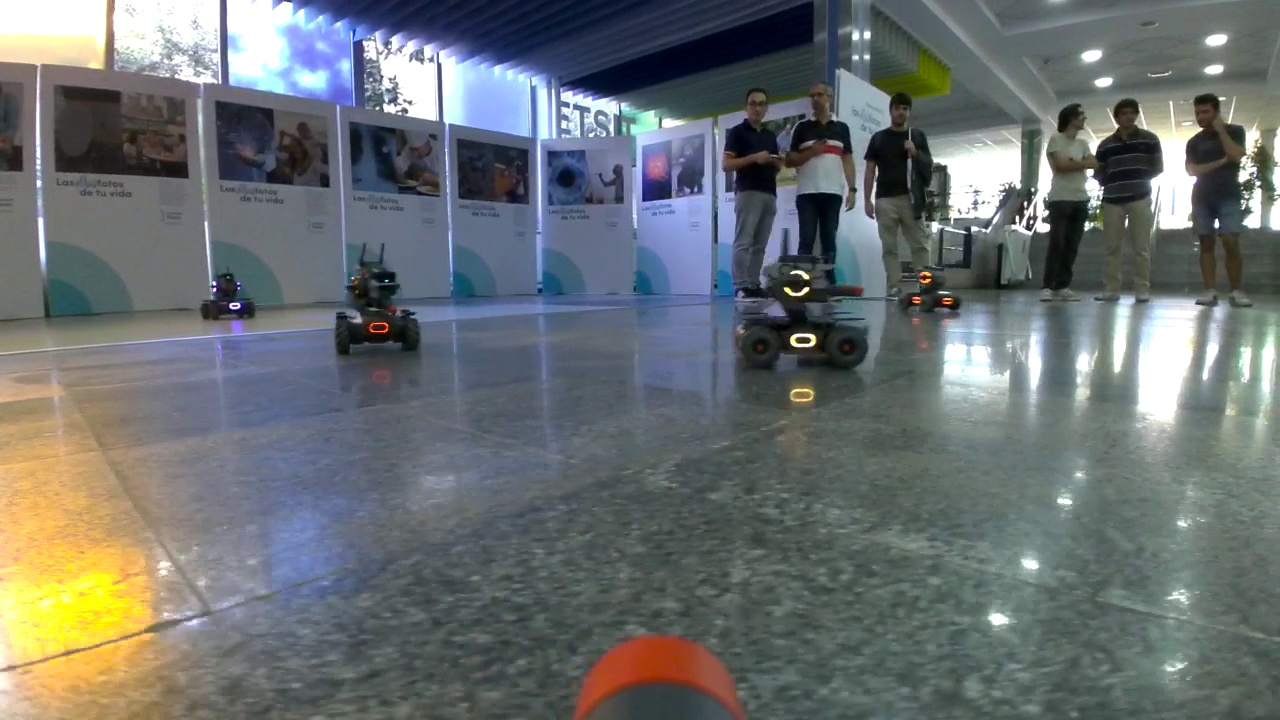robot: (733, 228, 869, 368), (334, 242, 421, 358), (897, 264, 961, 316), (200, 270, 256, 322)
